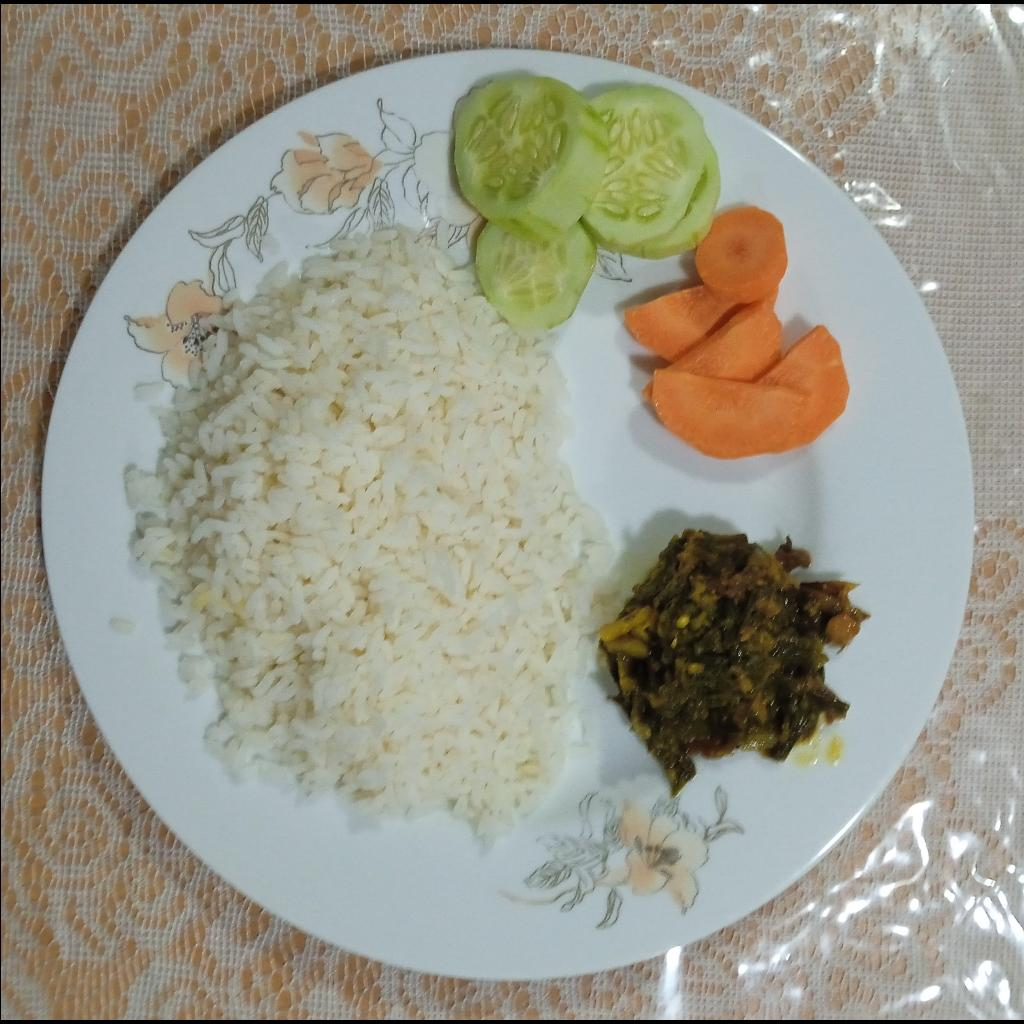carrot: (622, 207, 850, 462)
cucumber: (454, 77, 722, 333)
rice: (128, 226, 614, 851)
shak: (598, 529, 872, 798)
